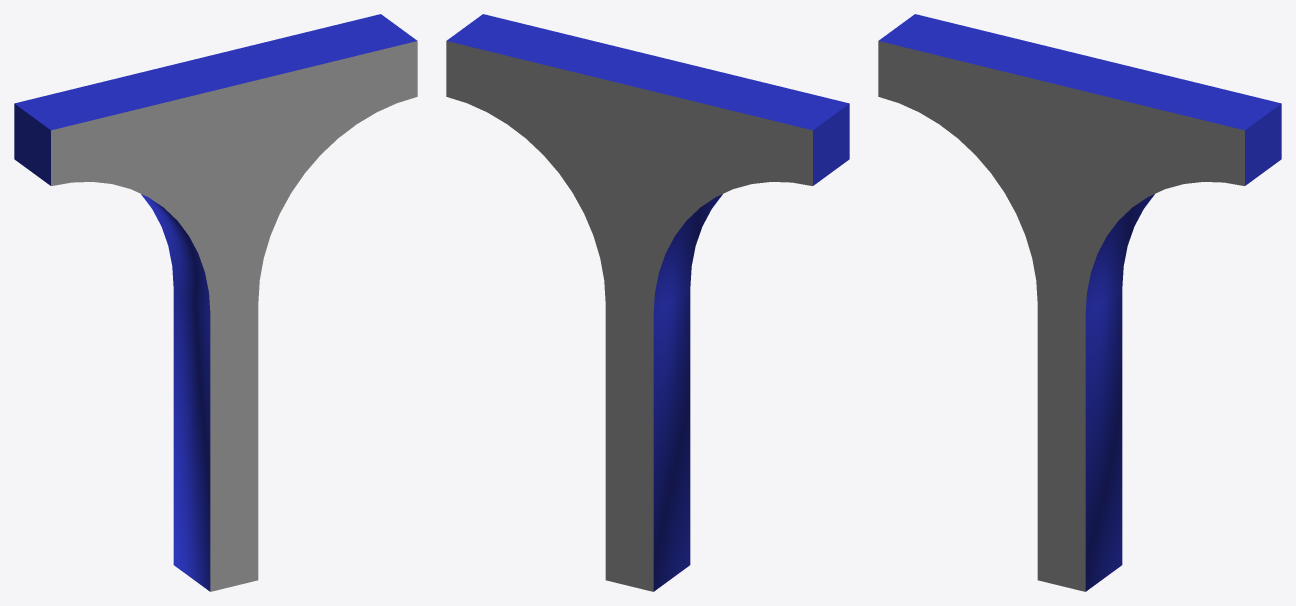
Rendered from Arch_01a.fbx.
3 renders of one model, left to right at view 1: azimuth 30°, elevation 25°; view 2: azimuth 150°, elevation 25°; view 3: azimuth 330°, elevation 25°, orthographic.
Visible parts, largest first — view 1: Arch_01a; view 2: Arch_01a; view 3: Arch_01a.
Part boxes in pixels (left/top/right/bottom): Arch_01a: left=14, top=14, right=417, bottom=591; Arch_01a: left=446, top=14, right=849, bottom=591; Arch_01a: left=878, top=14, right=1281, bottom=591.
Bounding box in the file's own units: 2.3 × 0.4 × 3.
